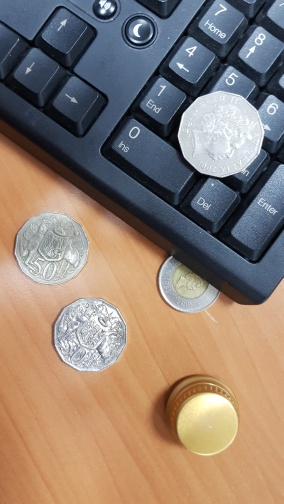coin: (178, 91, 265, 179), (14, 212, 90, 285), (52, 297, 128, 370), (157, 255, 221, 314)
